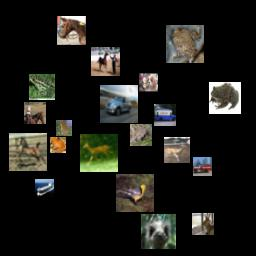automobile: (100, 85, 138, 123)
bird: (116, 174, 154, 212), (141, 214, 176, 249)
deer: (80, 134, 118, 172), (164, 137, 190, 163), (192, 213, 214, 235)
dog: (139, 73, 158, 92)
frog: (166, 25, 204, 63), (209, 82, 241, 114), (29, 74, 55, 100), (130, 124, 152, 146), (56, 120, 72, 136), (50, 137, 66, 153)
ship: (35, 179, 54, 198)
truck: (154, 104, 176, 126), (193, 157, 212, 176)
